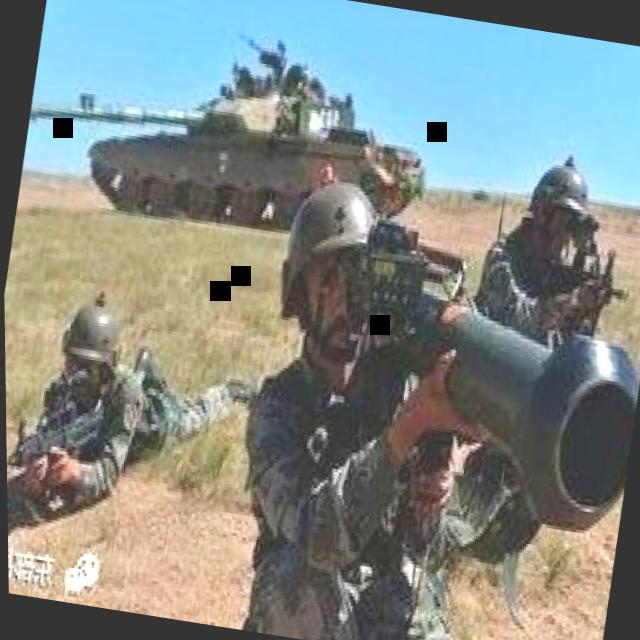Fall-Detected: (3, 256, 274, 543)
